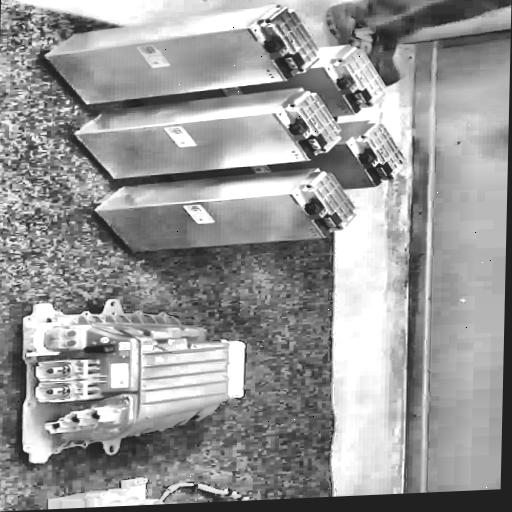battery_module: (41, 4, 323, 105), (72, 88, 344, 179), (98, 167, 356, 256), (319, 42, 389, 117), (344, 117, 407, 190)
bms_unit: (15, 293, 248, 457)
connector: (45, 477, 166, 509)
high_volt_cable: (158, 478, 273, 504)
